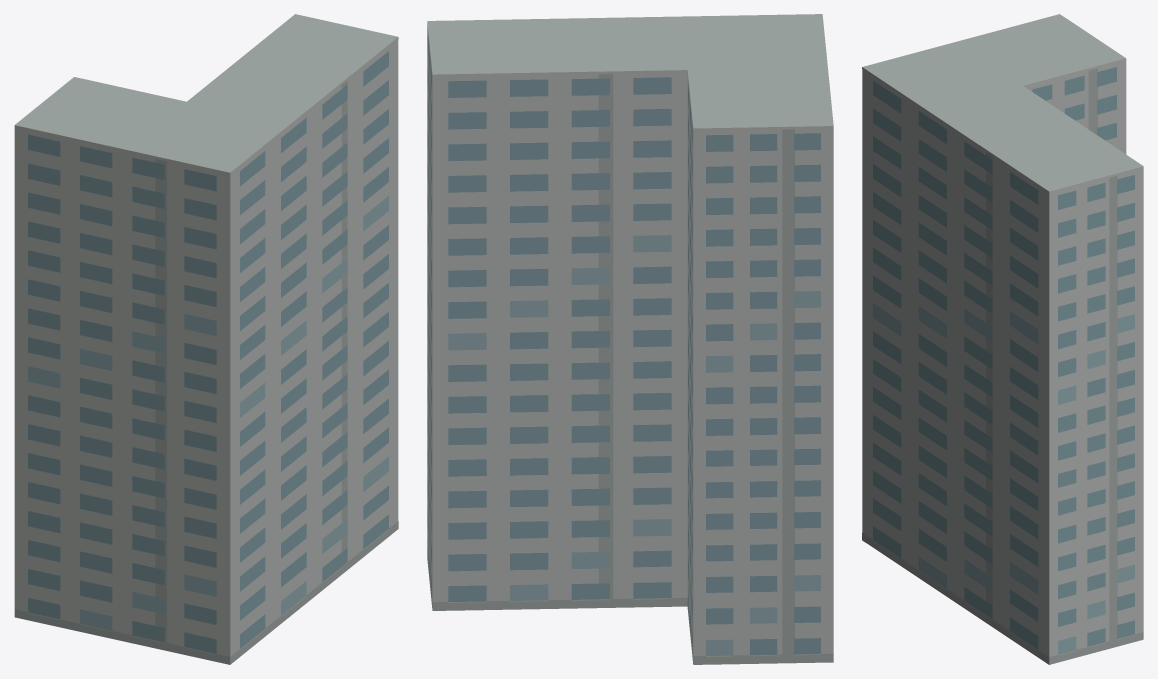
File: residential-8aafe0fc-4360-4481-a6c5-41550f2e9b3e.glb
3 renders of one model, left to right at view 1: azimuth 30°, elevation 25°; view 2: azimuth 150°, elevation 25°; view 3: azimuth 270°, elevation 25°, orthographic. The views are drawn at different scales.
Parts seen in each view (by area): view 1: residential-8aafe0fc-4360-4481-a6c5-41550f2e9b3e.tmp; view 2: residential-8aafe0fc-4360-4481-a6c5-41550f2e9b3e.tmp; view 3: residential-8aafe0fc-4360-4481-a6c5-41550f2e9b3e.tmp.
Boxes of the visible parts, x1,y1,x2,y2 form: residential-8aafe0fc-4360-4481-a6c5-41550f2e9b3e.tmp: [14, 14, 398, 664]; residential-8aafe0fc-4360-4481-a6c5-41550f2e9b3e.tmp: [427, 14, 833, 664]; residential-8aafe0fc-4360-4481-a6c5-41550f2e9b3e.tmp: [862, 14, 1143, 664].
Size of the model in its own units: 39.44 by 49 by 26.43.
